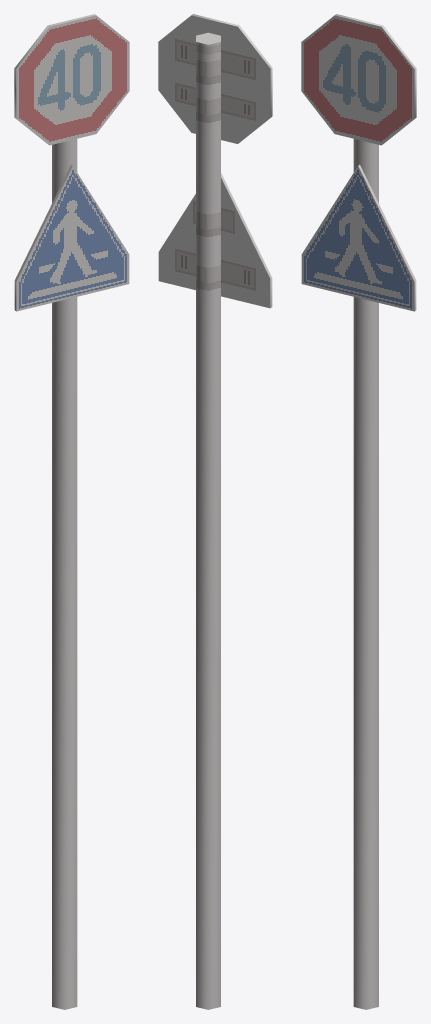
Rendered from 0451_Speed_Limit_Sign.glb.
The picture shows the model from 3 angles, left to right: view 1: azimuth 30°, elevation 25°; view 2: azimuth 150°, elevation 25°; view 3: azimuth 330°, elevation 25°; orthographic projection.
Parts seen in each view (by area): view 1: part_0; view 2: part_0; view 3: part_0.
Boxes of the visible parts, left/top/right/bottom form: part_0: left=14, top=14, right=129, bottom=1009; part_0: left=158, top=14, right=272, bottom=1009; part_0: left=301, top=14, right=416, bottom=1009.
Bounding box in the file's own units: 0.3603 × 3 × 0.0795.
Materials: 1 (1 with a texture image).
